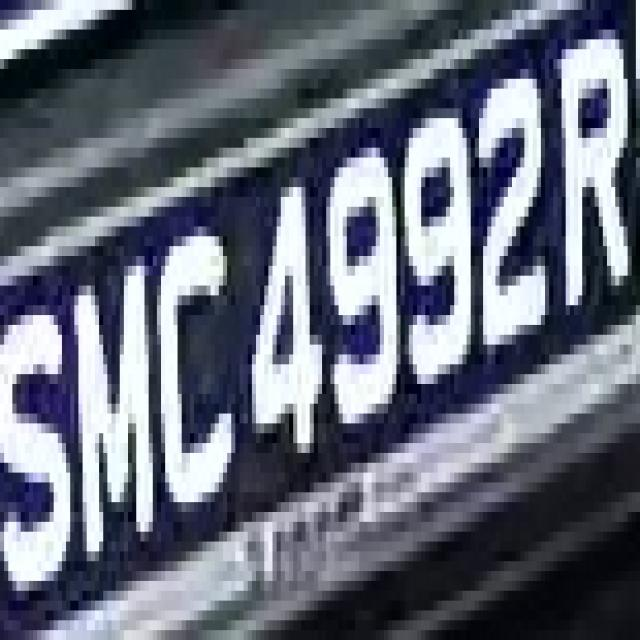2: (467, 59, 558, 364)
4: (227, 128, 326, 473)
9: (306, 99, 404, 482), (384, 99, 471, 424)
C: (153, 217, 248, 561)
M: (58, 236, 161, 581)
R: (553, 39, 640, 344)
S: (4, 256, 74, 620)
